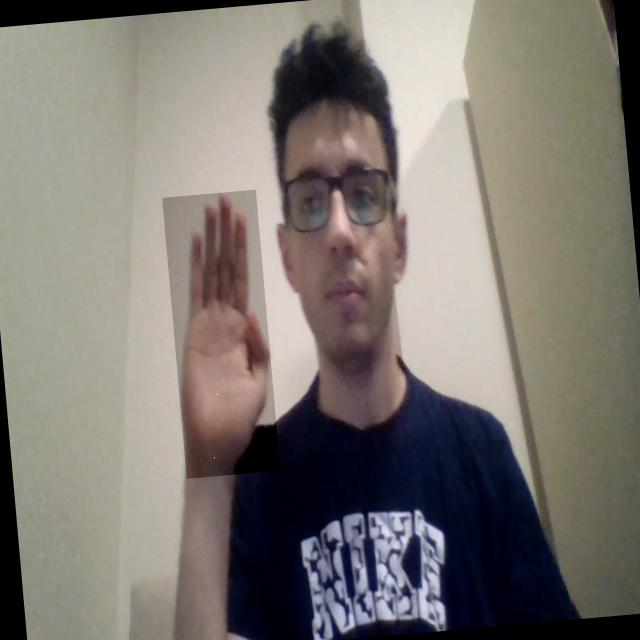hello: (162, 189, 280, 478)
